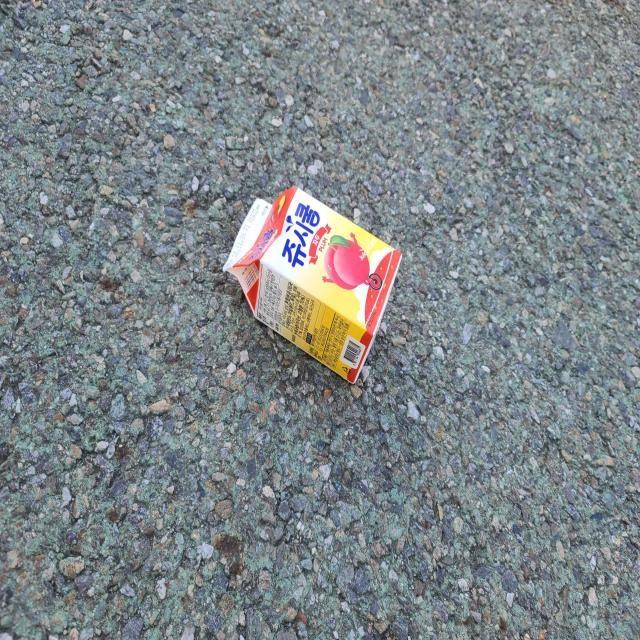paperpack: (223, 186, 402, 384)
